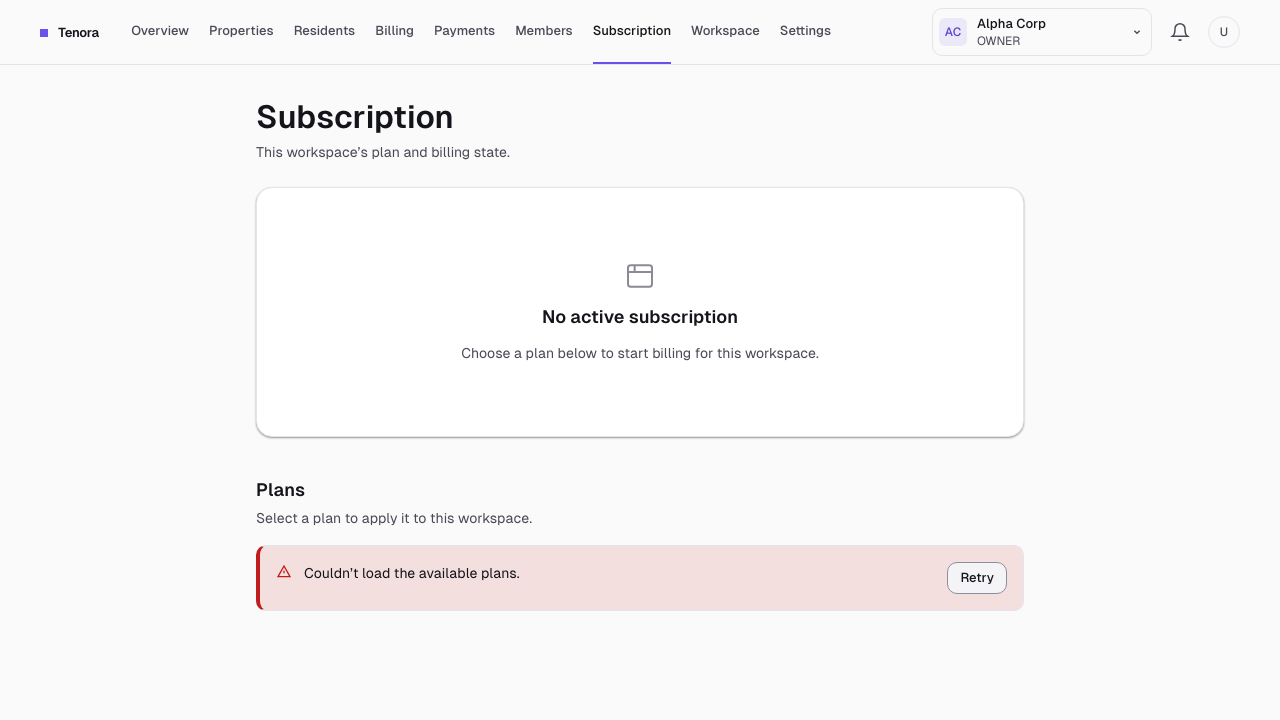
Test: SubscriptionPage — plan grid › shows a retry panel on plan-list failure
Step 1. Click the button "Retry" → (977,578), box [947,562,1007,594]
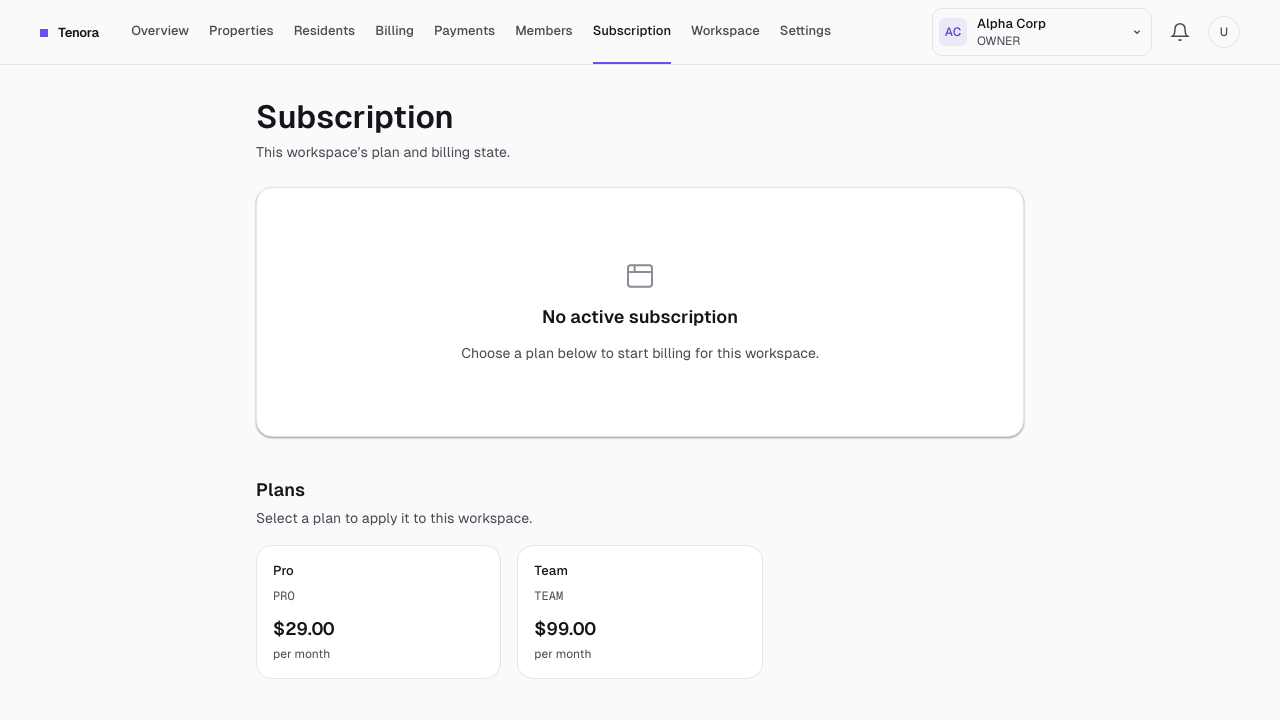
Check: the text "Team" is shown, box [534,562,568,580]
